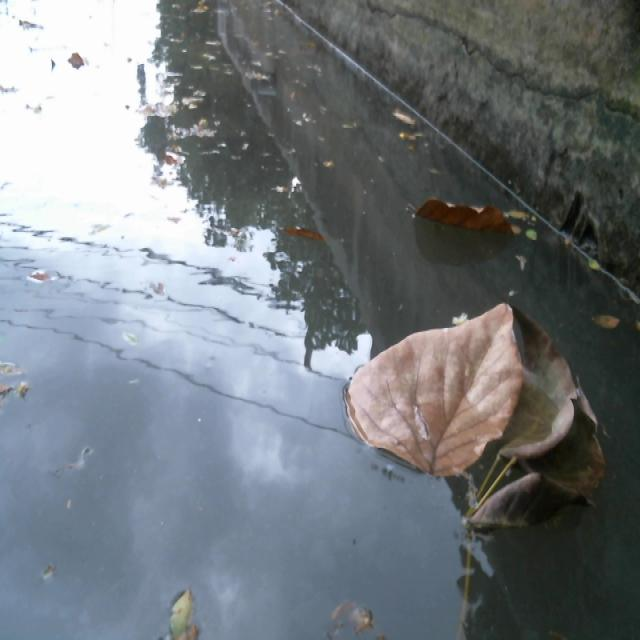Big-leaf: (338, 287, 525, 505), (462, 330, 610, 542), (403, 186, 534, 235)
Small-leaf: (259, 207, 338, 267), (325, 589, 411, 640), (152, 567, 207, 640), (0, 337, 38, 417), (383, 98, 429, 152), (19, 256, 66, 283), (585, 303, 626, 331), (514, 228, 543, 247), (581, 251, 605, 272)
